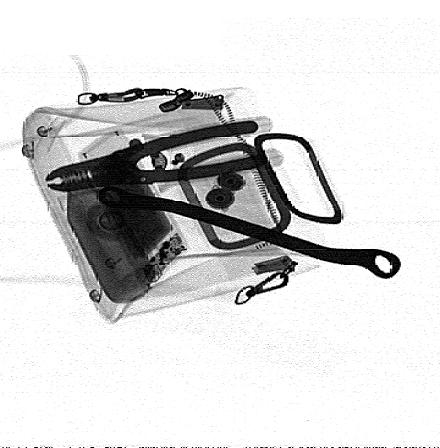Pliers: (42, 120, 267, 193)
Powerbank: (78, 129, 191, 283)
Wrench: (94, 185, 402, 281)
